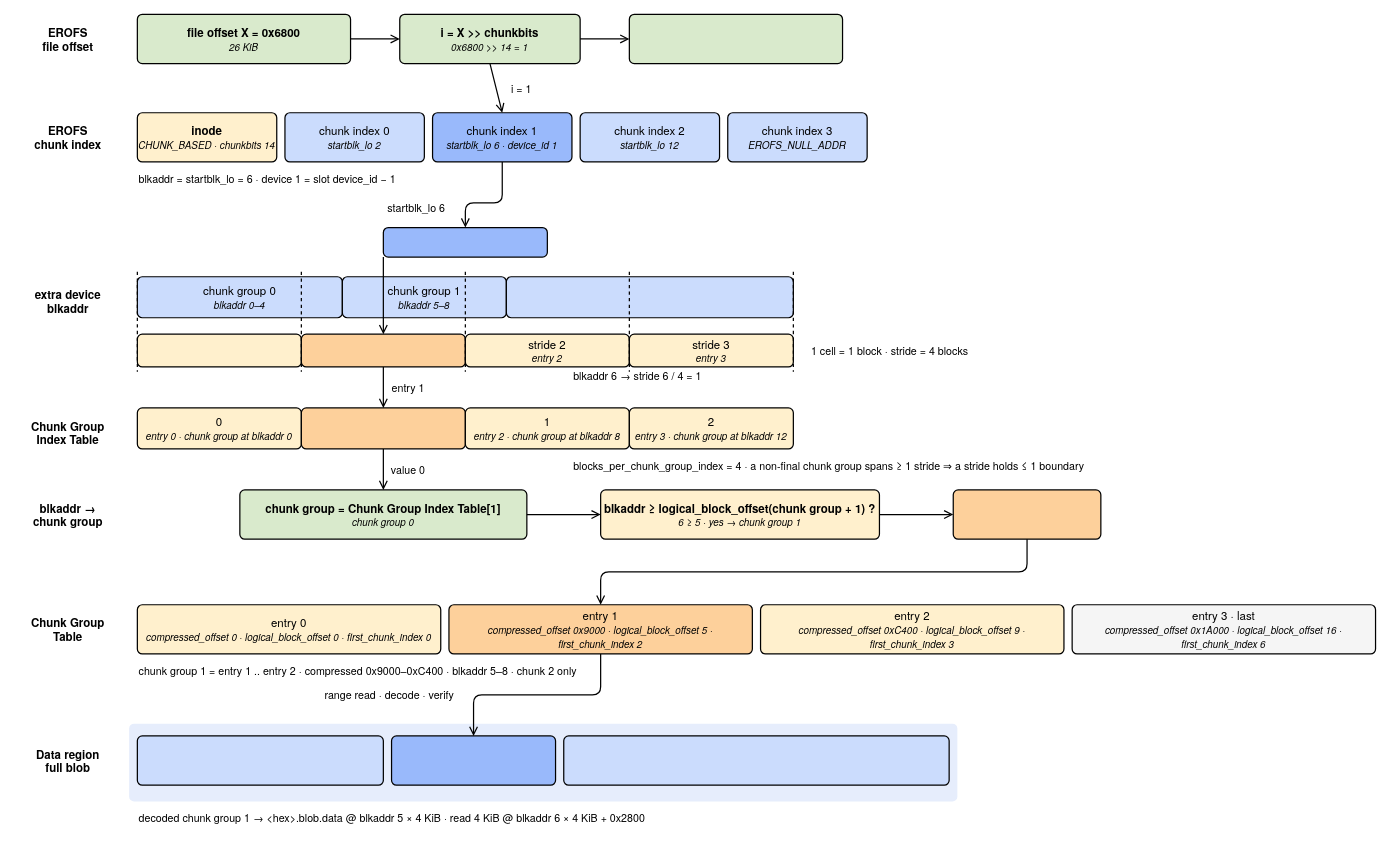
This 1390x841 diagram has some shape labels left out. Here are the shapes that lost their labels. From the top down, the centre of each, then its label:
At pixel 735 38: "in-chunk = X % chunk size 0x6800 % 16 KiB = 0x2800".
At pixel 465 242: "chunk · blkaddr 6–9 · 16 KiB".
At pixel 649 297: "chunk group 2 blkaddr 9–15".
At pixel 219 350: "stride 0 entry 0".
At pixel 383 350: "stride 1 entry 1".
At pixel 383 428: "0 entry 1 · chunk group at blkaddr 4".
At pixel 1026 514: "chunk group 1 at most + 1".
At pixel 260 760: "chunk group 0 0 – 0x9000".
At pixel 473 760: "chunk group 1 0x9000 – 0xC400 · zstd".
At pixel 756 760: "chunk group 2 0xC400 – 0x1A000".
